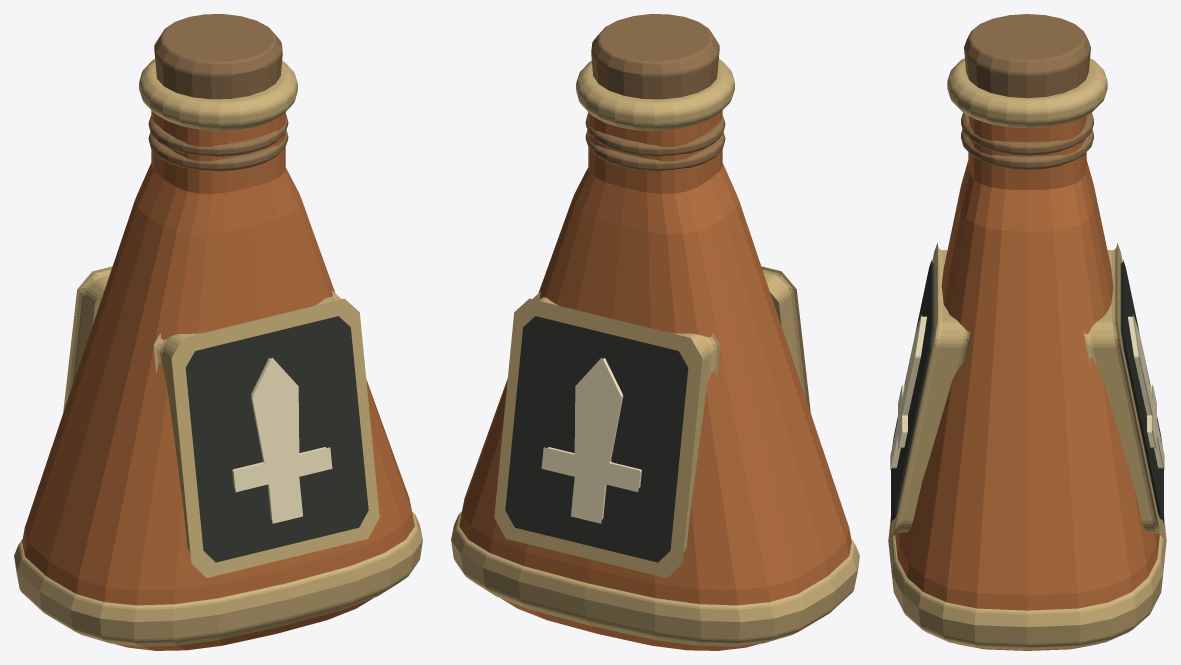
File: attack_tonic.glb
3 views of the same model, side by side, from view 1: azimuth 30°, elevation 25°; view 2: azimuth 150°, elevation 25°; view 3: azimuth 270°, elevation 25° (orthographic).
Parts seen in each view (by area): view 1: attack_tonic; view 2: attack_tonic; view 3: attack_tonic.
Part boxes in pixels (box(x1,y1,x2,y2)): attack_tonic: box(14, 14, 422, 650); attack_tonic: box(451, 14, 859, 650); attack_tonic: box(888, 14, 1166, 650).
Size of the model in its own units: 0.54 by 0.8 by 0.368.
